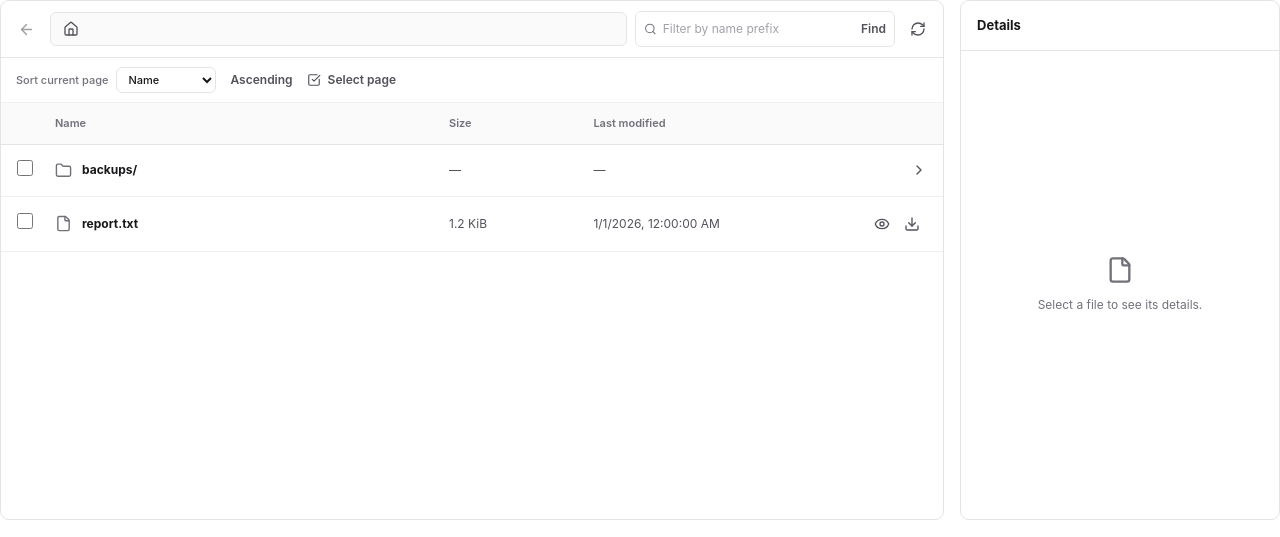
it: shows selected object details and clears them when navigating folders
Click the button "report.txt". click: (110, 223)
box: x1=55 y1=214 x2=439 y2=232
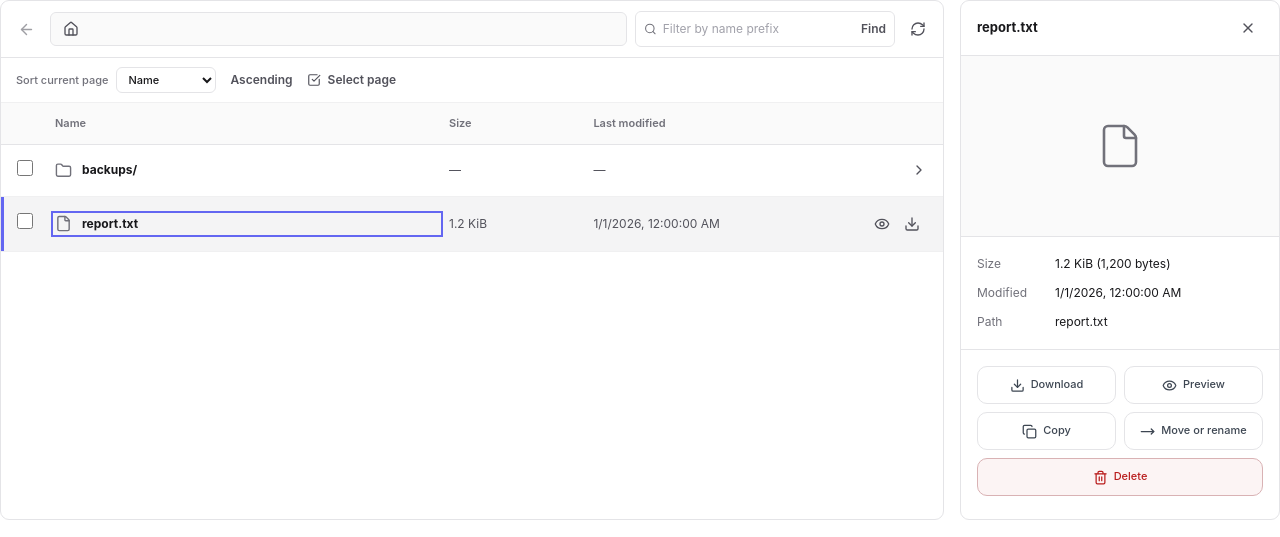
Check: the 1st text "report.txt" is shown, box x1=977 y1=18 x2=1038 y2=38
Check: the text "1.2 KiB (1,200 bytes)" is shown, box x1=1055 y1=256 x2=1170 y2=271
Click the button "backups/". click: (110, 170)
box: x1=55 y1=161 x2=439 y2=179
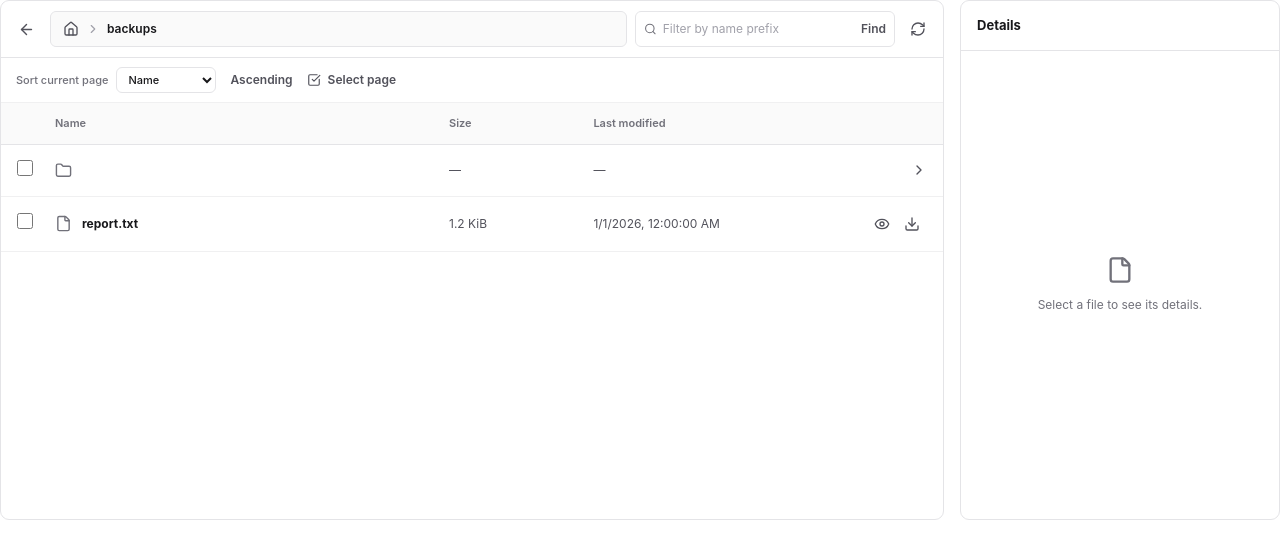
Check: the text "Details" is shown, box x1=977 y1=16 x2=1021 y2=35
